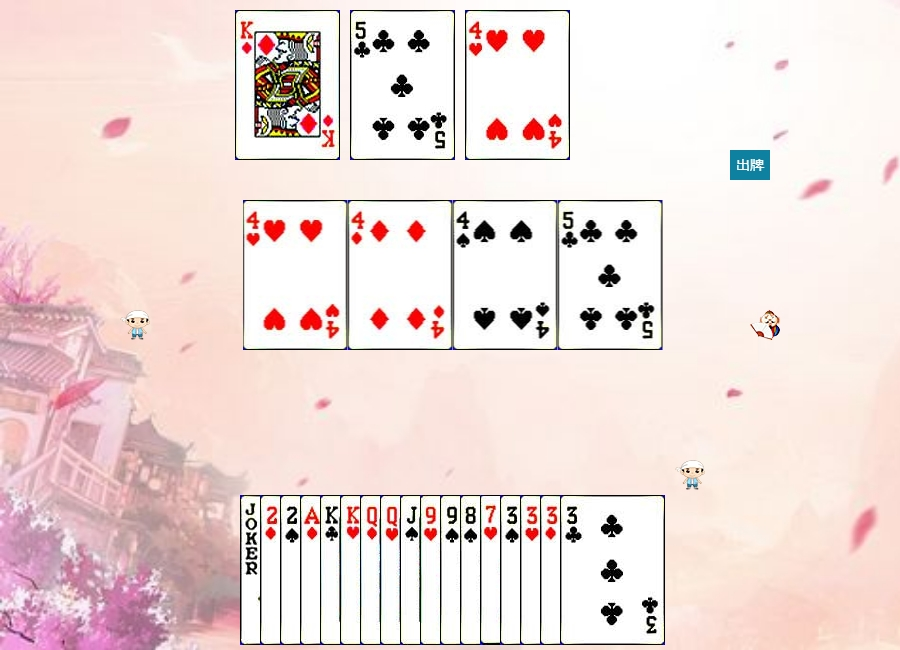11~4: (400, 495, 505, 645)
12~1: (360, 495, 465, 645)
12~3: (380, 495, 485, 645)
13~1: (235, 10, 340, 160)
13~2: (320, 495, 425, 645)
13~3: (340, 495, 445, 645)
14~1: (300, 495, 405, 645)
15~1: (260, 495, 365, 645)
15~4: (280, 495, 385, 645)
17~3: (240, 495, 345, 645)
3~1: (540, 495, 645, 645)
3~2: (560, 495, 665, 645)
3~3: (520, 495, 625, 645)
3~4: (500, 495, 605, 645)
4~1: (348, 200, 453, 350)
4~3: (465, 10, 570, 160), (243, 200, 348, 350)
4~4: (453, 200, 558, 350)
5~2: (350, 10, 455, 160), (558, 200, 663, 350)
7~3: (480, 495, 585, 645)
8~4: (460, 495, 565, 645)
9~3: (420, 495, 525, 645)
9~4: (440, 495, 545, 645)
